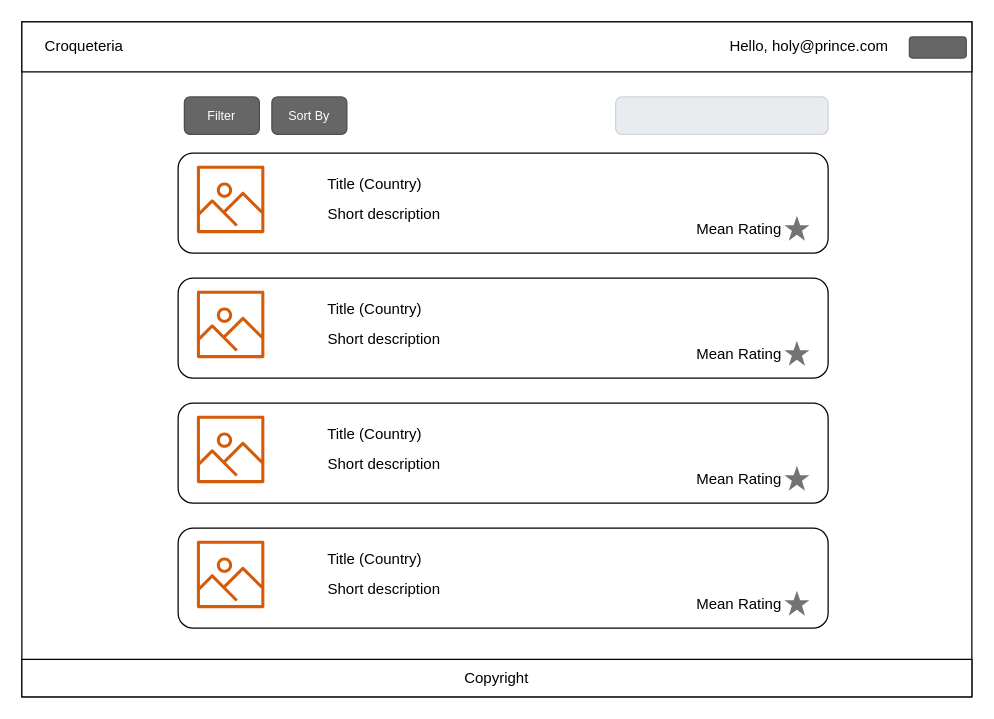
Some shapes in this 994 by 719 pixel diagram are drawn without their labels. The centre of each missing label's shape, as x and y in pixels:
logout: the point at 937,47
Search: the point at 721,115
